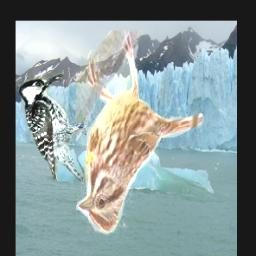Sparrow: (76, 31, 204, 235)
Woodpecker: (20, 73, 88, 182)
